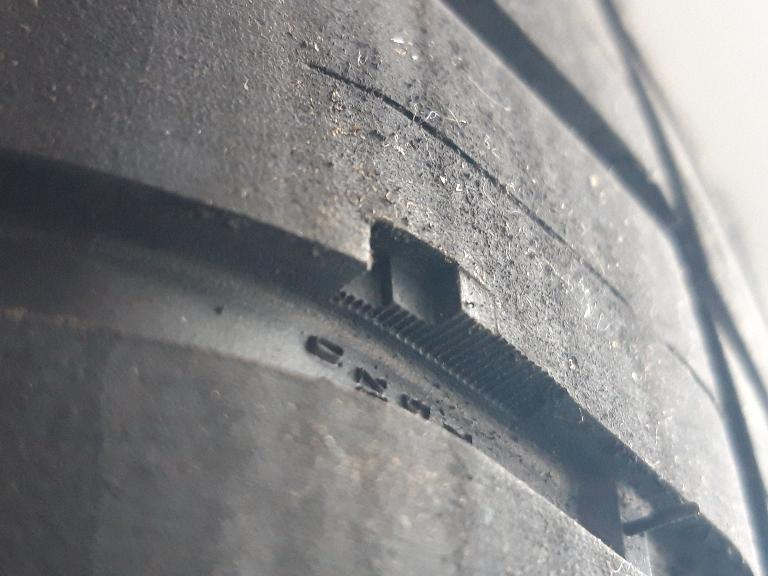temoin:50: (322, 210, 506, 382)
